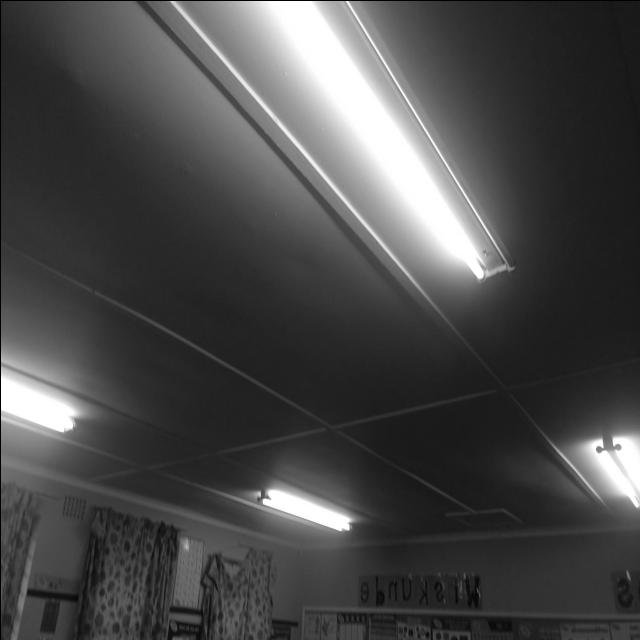light: (268, 0, 515, 282), (0, 372, 76, 434), (258, 486, 352, 532), (594, 433, 640, 508)
